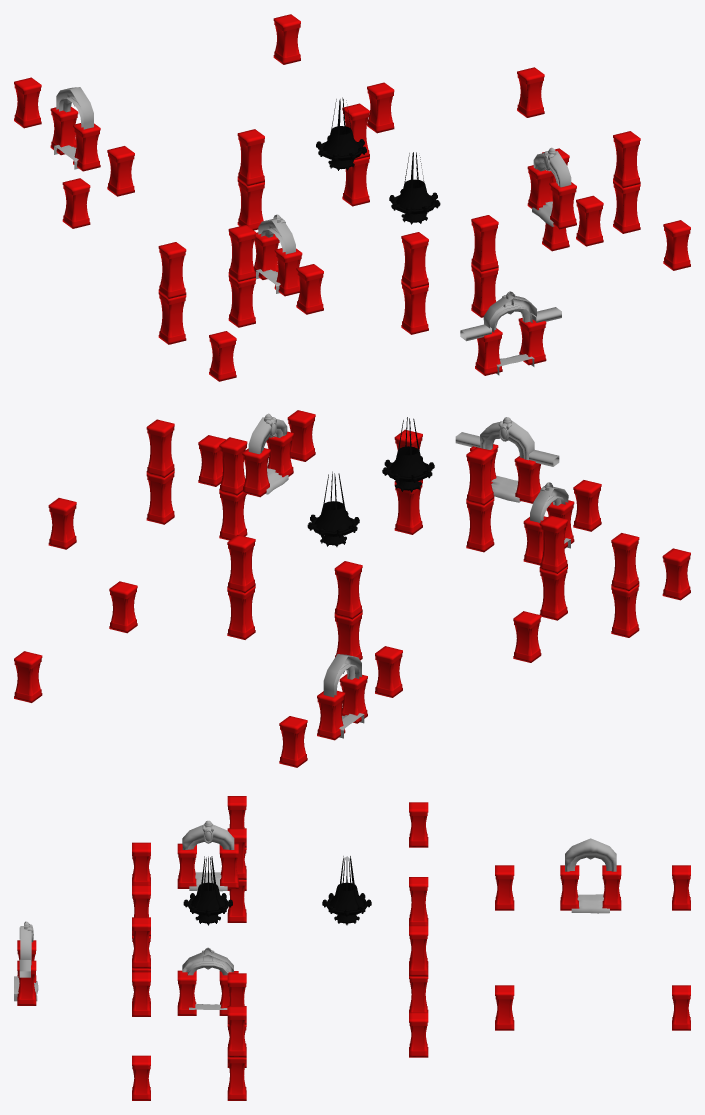
File: Map002_D_Medium.fbx
The picture shows the model from 3 angles, top to bottom: view 1: azimuth 30°, elevation 25°; view 2: azimuth 150°, elevation 25°; view 3: azimuth 270°, elevation 25°; orthographic projection. The views are drawn at different scales.
Visible parts, largest first — view 1: Medium; view 2: Medium; view 3: Medium.
Boxes of the visible parts, bbox=[...] form: Medium: bbox=[14, 14, 690, 381]; Medium: bbox=[14, 410, 690, 767]; Medium: bbox=[14, 796, 690, 1100].
Bounding box in the file's own units: 5400 × 1571 × 7084.
